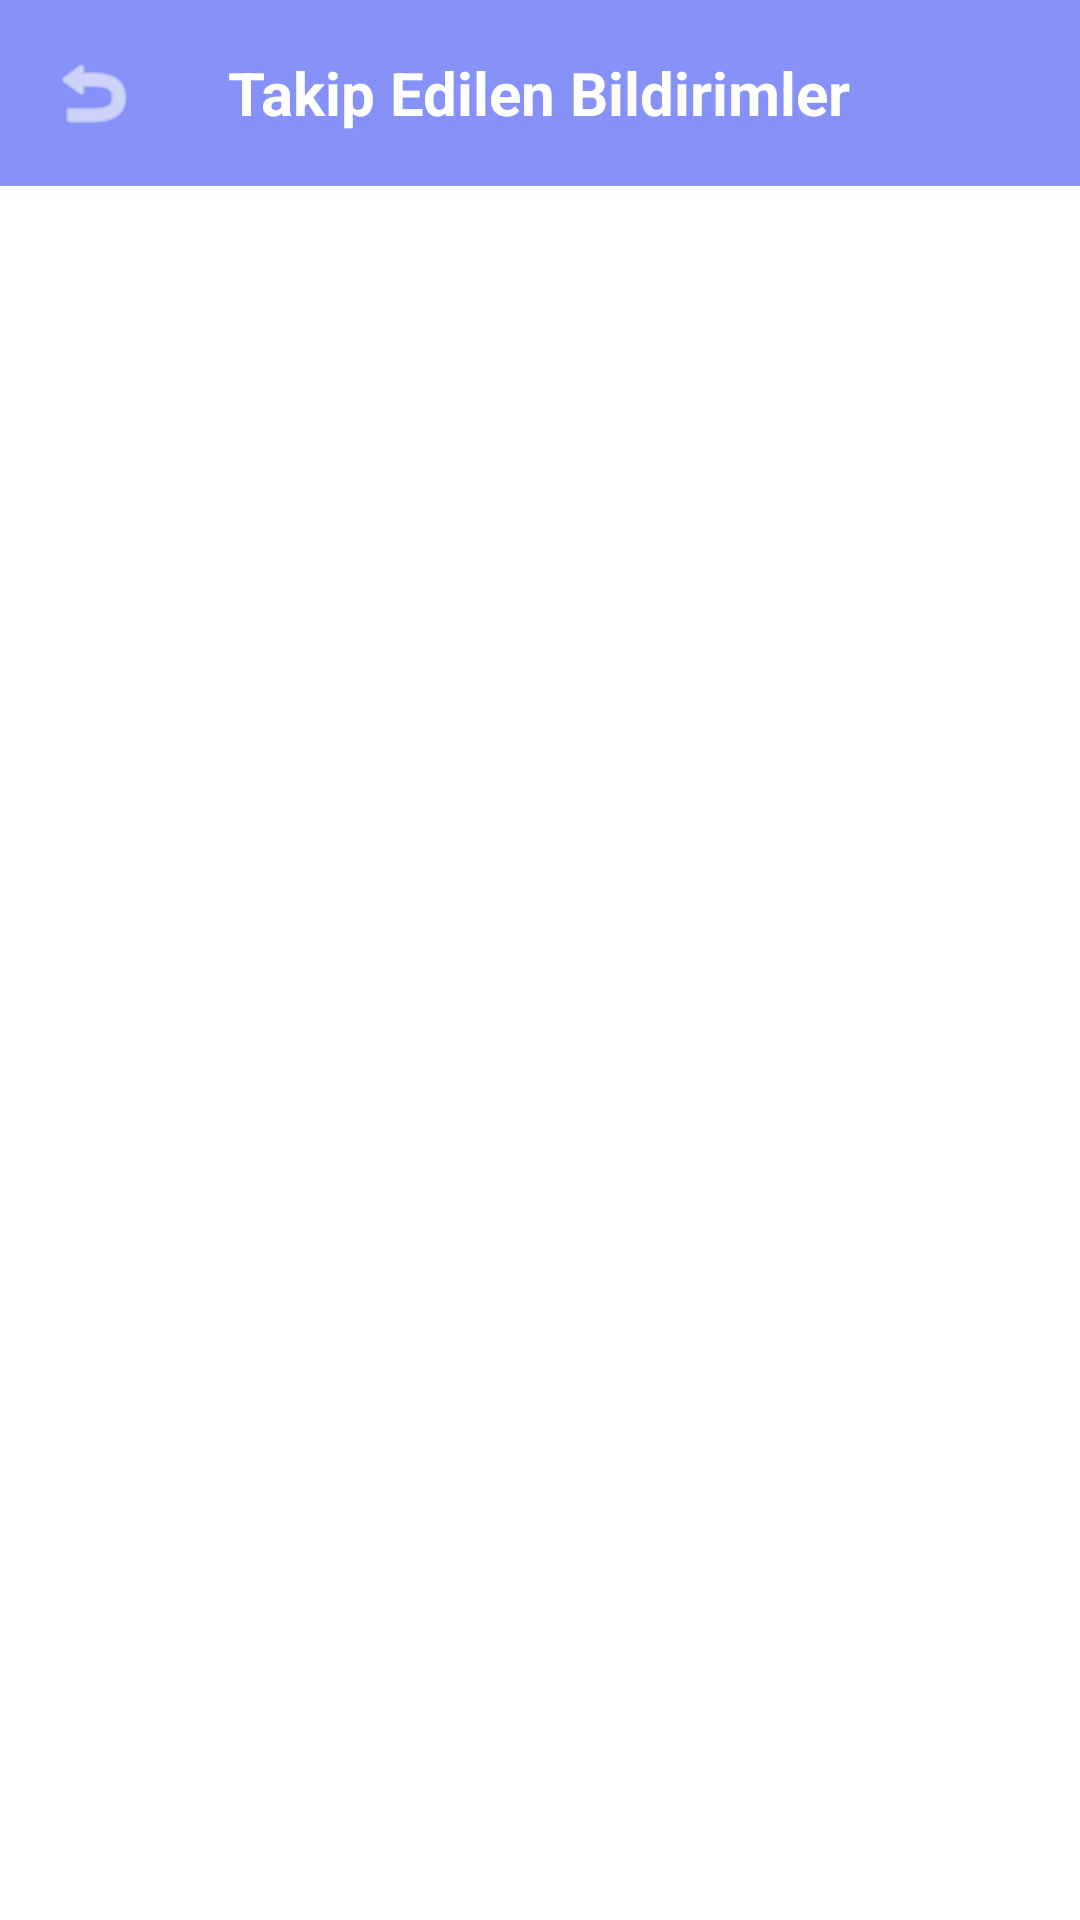

Icons on this 1080×1920 Android screen, each with its box as (x1, y1, x2, y2):
Geri Dön: (62, 65, 126, 123)
